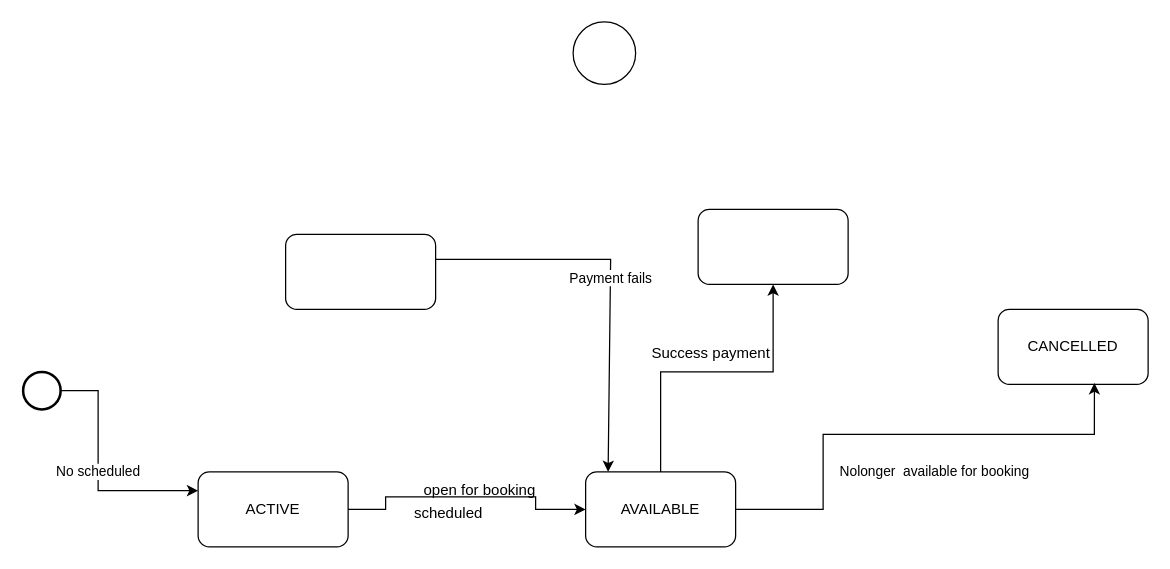
The diagram is 1170 pixels wide and 569 high, and some of its shapes have lost their labels. The shapes that lost their labels are listed below. From the top down, each one's centre as x and y in pixels, then its label:
At [772,246]: "RESERVED".
At [360,271]: "PENDING".
